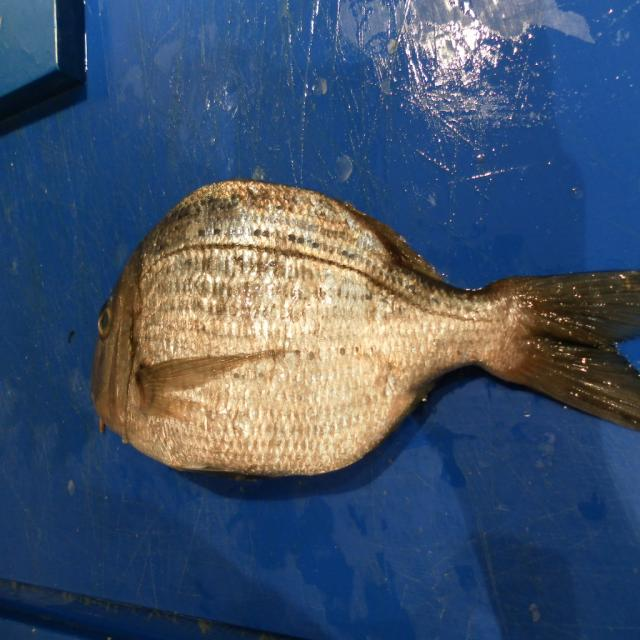Red-Sea-Bream-mercan-: (90, 180, 640, 483)
